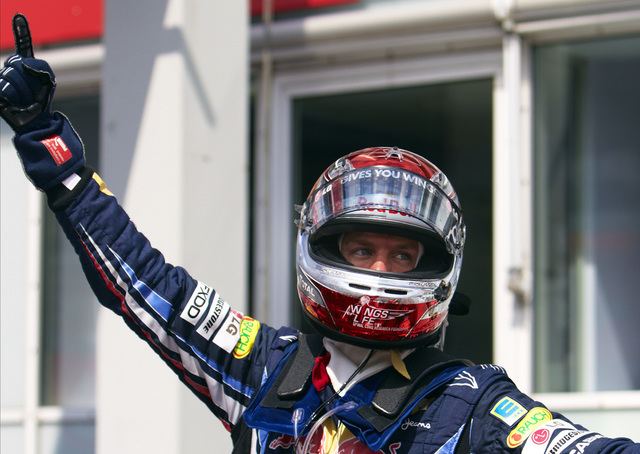helmet: (301, 153, 459, 332)
